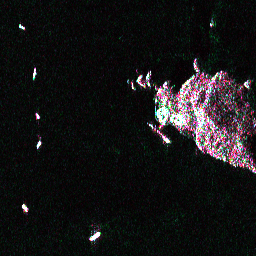ship: (86, 228, 103, 244), (19, 201, 32, 215), (15, 21, 27, 33), (34, 138, 42, 149), (31, 67, 37, 80), (33, 111, 41, 120)
